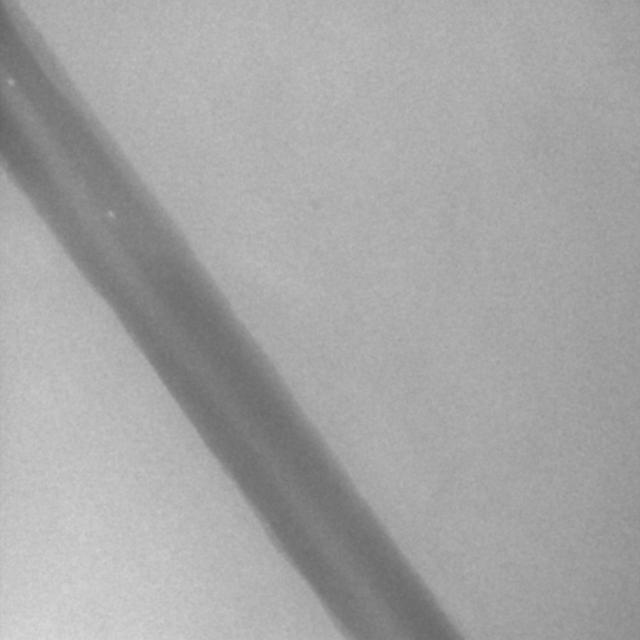air-hole: (0, 69, 17, 84), (105, 209, 120, 224)
